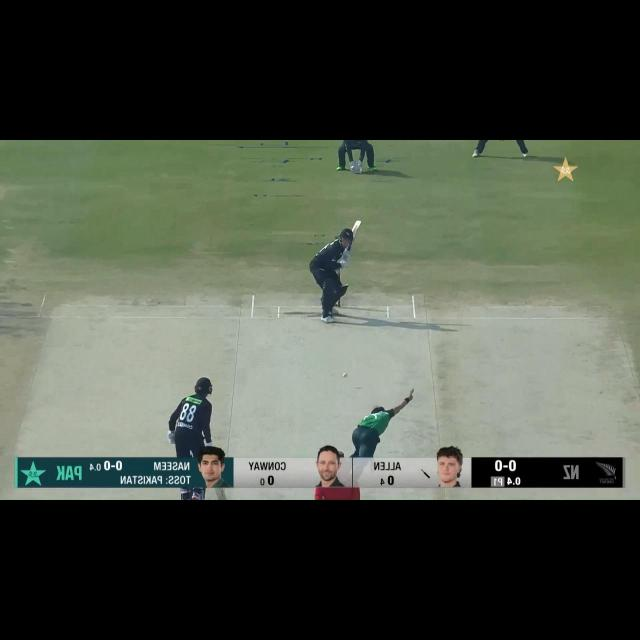bat: (346, 220, 362, 254), (212, 486, 230, 502)
toe: (353, 218, 362, 229), (217, 493, 227, 500)
